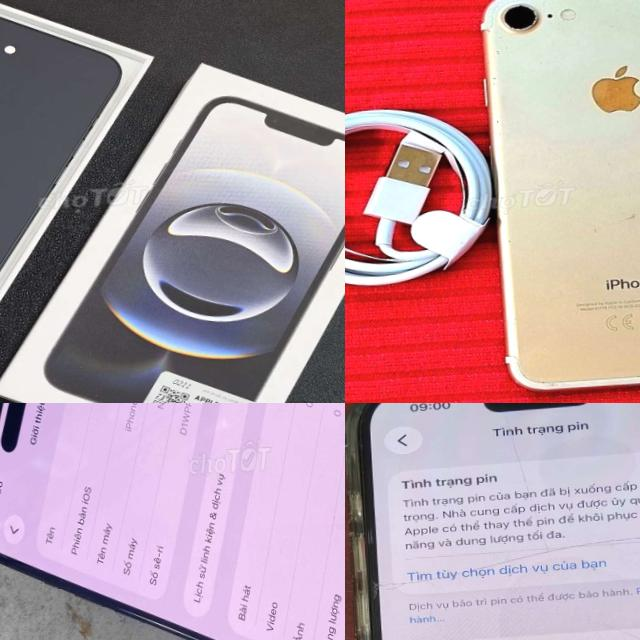scratch: (482, 40, 504, 134), (525, 0, 640, 17), (581, 203, 640, 229), (494, 4, 544, 34), (502, 222, 512, 252)
screen_defect: (484, 409, 550, 562), (370, 554, 523, 598), (553, 525, 640, 558)
